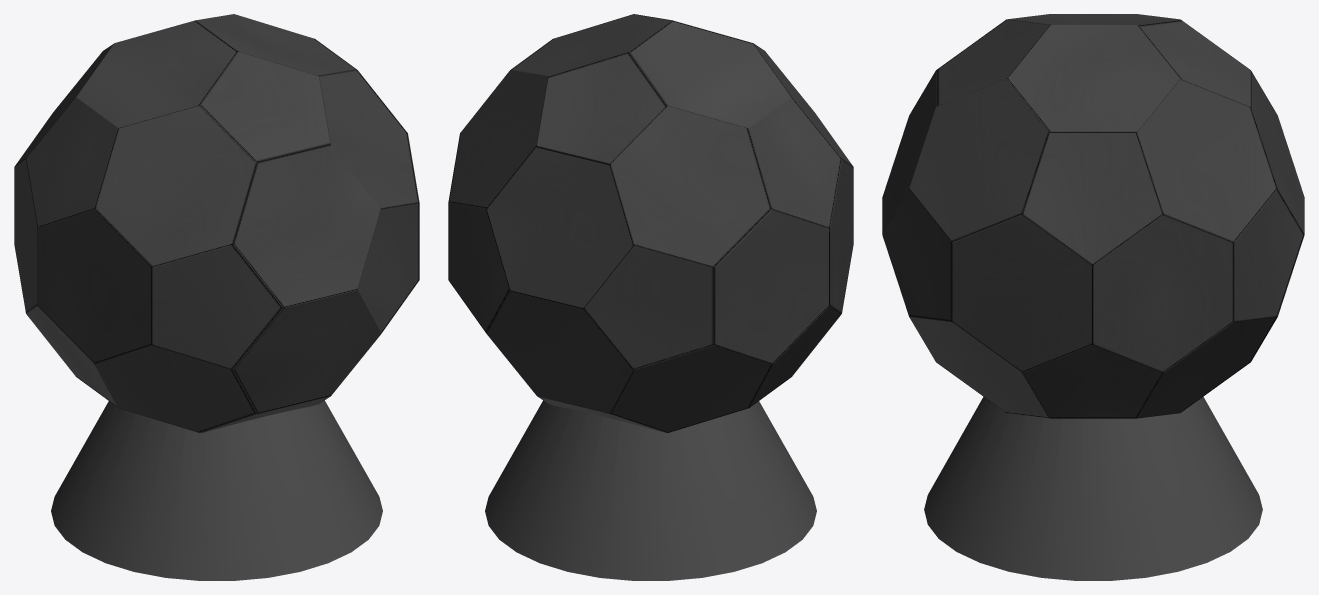
File: TurretFBXLevel1.fbx
3 renders of one model, left to right at view 1: azimuth 30°, elevation 25°; view 2: azimuth 150°, elevation 25°; view 3: azimuth 270°, elevation 25°, orthographic. The views are drawn at different scales.
Visible parts, largest first — view 1: polySurface2, polySurface4; view 2: polySurface2, polySurface4; view 3: polySurface2, polySurface4.
Part boxes in pixels (<box>): polySurface2: <box>14,14,419,432</box>; polySurface4: <box>51,400,382,580</box>; polySurface2: <box>448,14,853,432</box>; polySurface4: <box>485,400,816,580</box>; polySurface2: <box>882,14,1304,418</box>; polySurface4: <box>924,396,1262,580</box>.
Bounding box in the file's own units: 9.38 × 11.88 × 9.38.
Materials: 2 (2 with a texture image).
